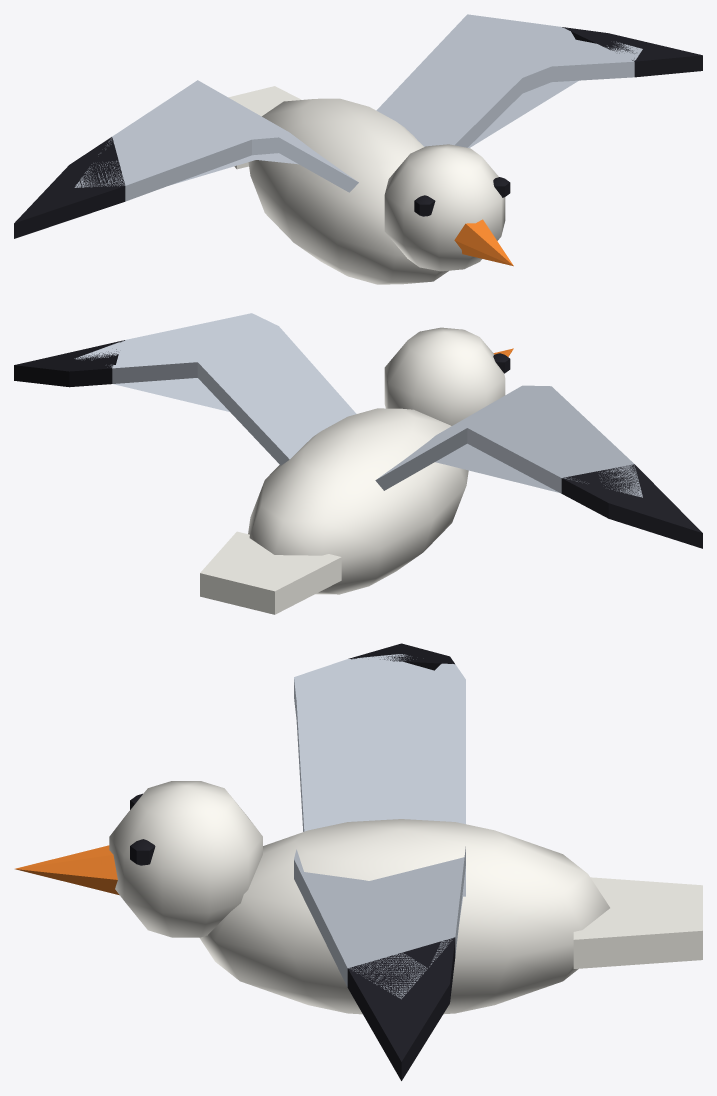
The model's file is seagull.glb.
The picture shows the model from 3 angles, top to bottom: view 1: azimuth 30°, elevation 25°; view 2: azimuth 150°, elevation 25°; view 3: azimuth 270°, elevation 25°; orthographic projection. The views are drawn at different scales.
Parts seen in each view (by area): view 1: seagull; view 2: seagull; view 3: seagull.
Part boxes in pixels (<box>): seagull: <box>14,14,702,284</box>; seagull: <box>14,313,702,614</box>; seagull: <box>15,643,702,1080</box>.
Bounding box in the file's own units: 0.92 × 0.25 × 0.64.
